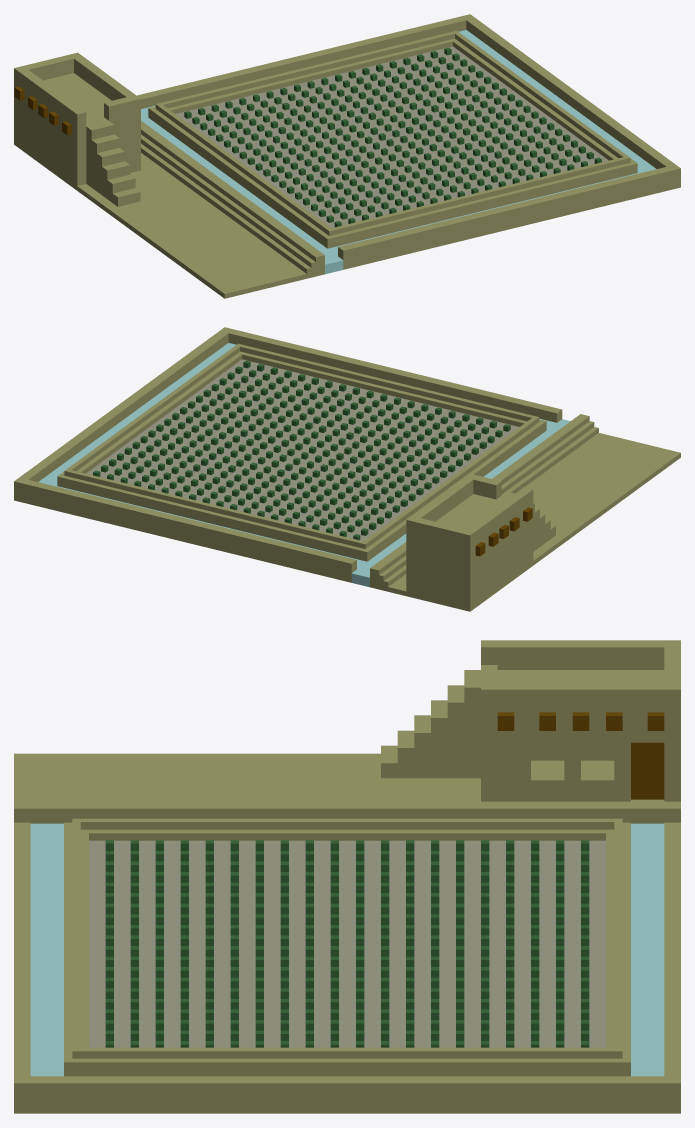
File: Egyptian Farm freshly planted.obj
3 renders of one model, top to bottom at view 1: azimuth 30°, elevation 25°; view 2: azimuth 150°, elevation 25°; view 3: azimuth 270°, elevation 25°, orthographic. The views are drawn at different scales.
Visible parts, largest first — view 1: Egyptian Farm freshly planted; view 2: Egyptian Farm freshly planted; view 3: Egyptian Farm freshly planted.
Boxes of the visible parts, box(x1,y1,x2,y2) form: Egyptian Farm freshly planted: box(14, 14, 680, 298); Egyptian Farm freshly planted: box(14, 327, 680, 611); Egyptian Farm freshly planted: box(14, 640, 680, 1113).
Bounding box in the file's own units: 101 × 16 × 80.
